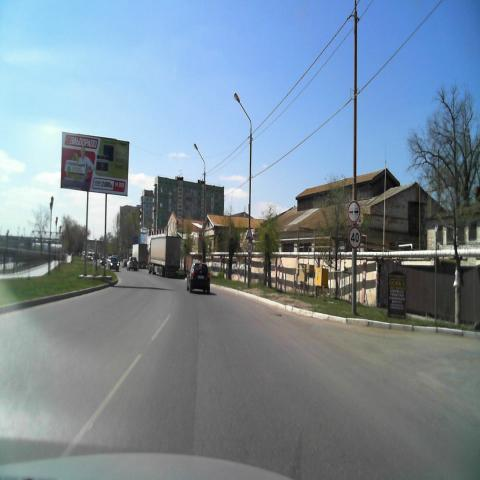3_20: (348, 200, 360, 224)
